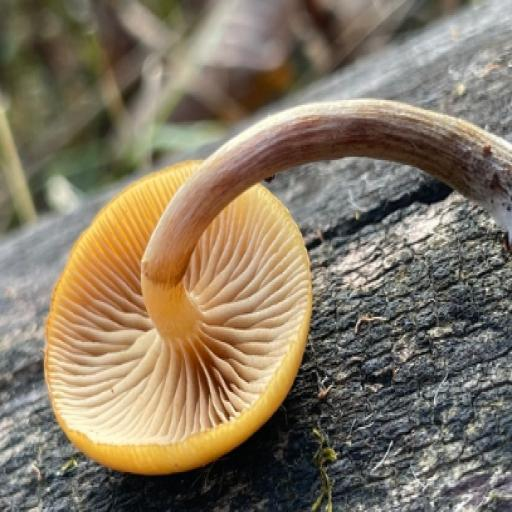mushroom: (37, 117, 409, 484)
